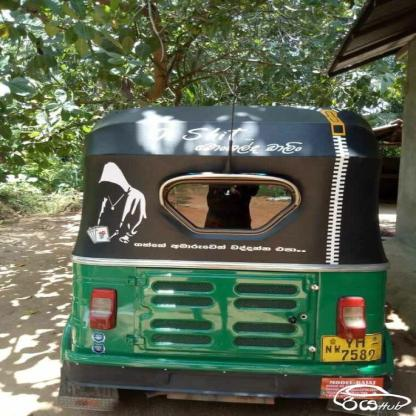number plate: (318, 329, 386, 363)
three wheeler back: (58, 100, 389, 400)
